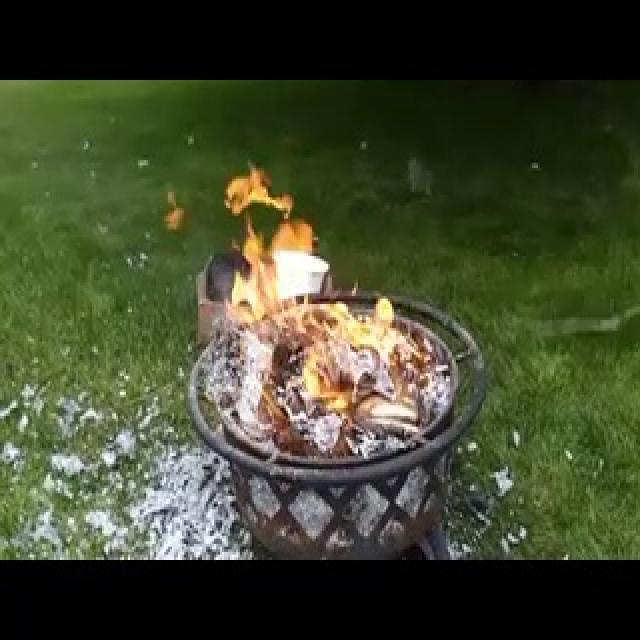Fire: (173, 126, 413, 462)
